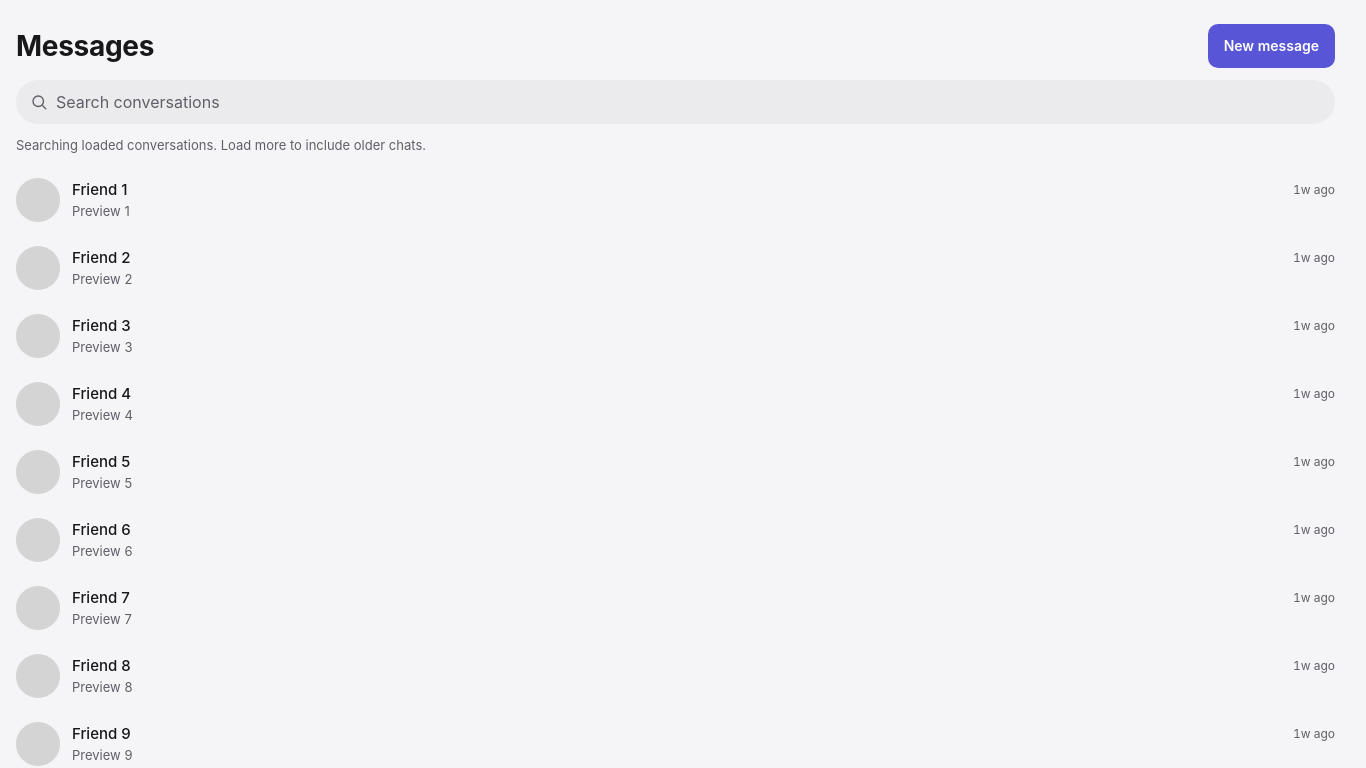
Test: conversation pagination › loads older conversations and explains search covers only loaded rows
This screenshot has width=1366, height=768.
Type "Friend 21" into the search field labelled "Search conversations" at (676, 102), box [16,80,1335,124]
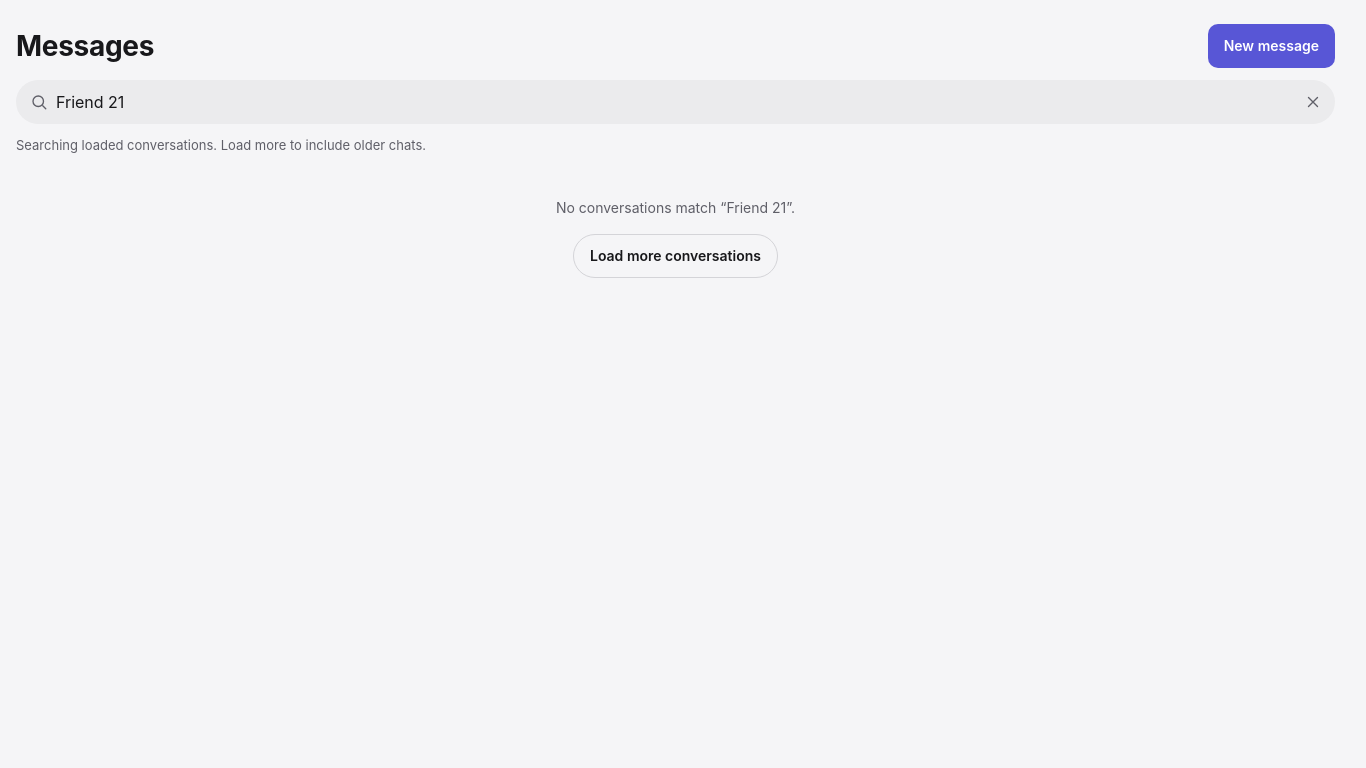
Expected: the text "Searching loaded conversations" is shown, [16,137,426,153]
Click the button "Load more conversations" at (676, 256), box [573,234,778,278]
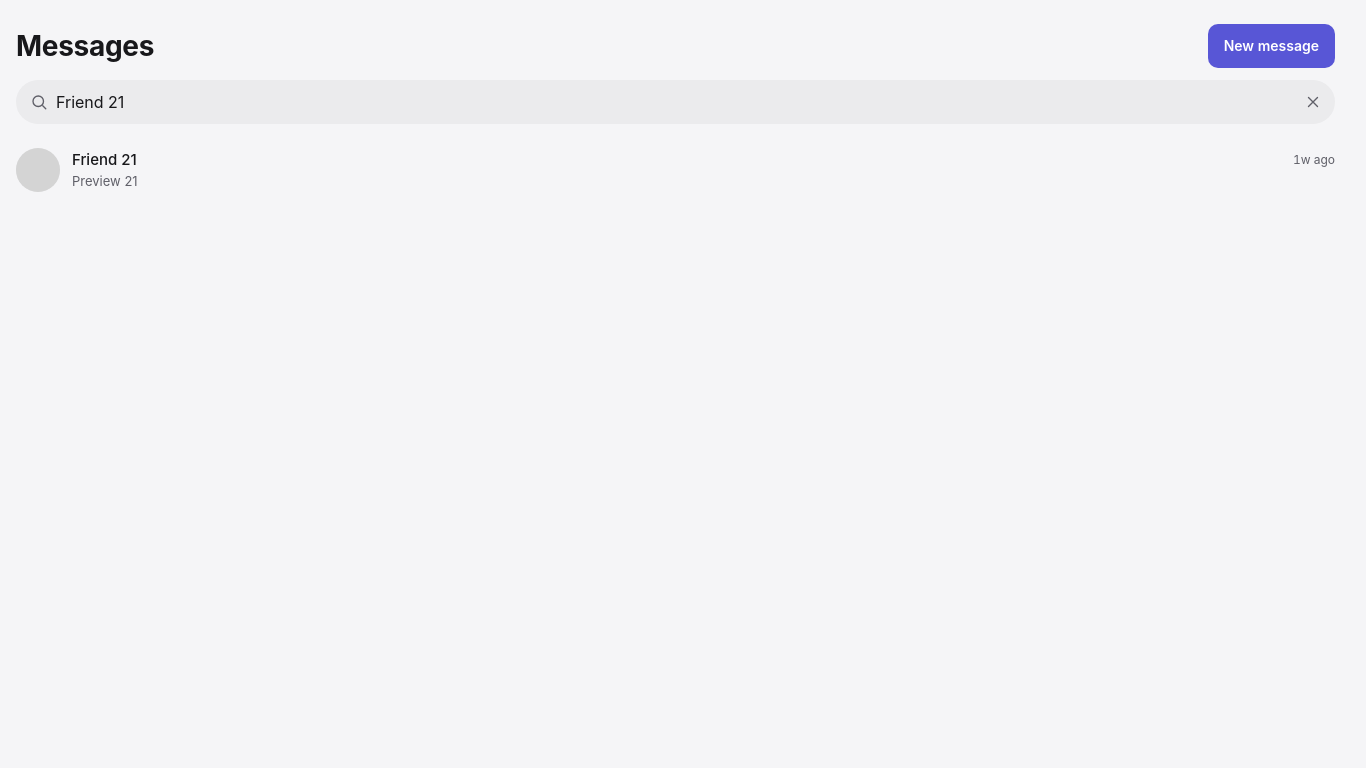
Expected: the text "Friend 21" is shown, [72,150,137,170]
Expected: the button "Load more conversations" is gone
Expected: the text "Searching loaded conversations" is gone
